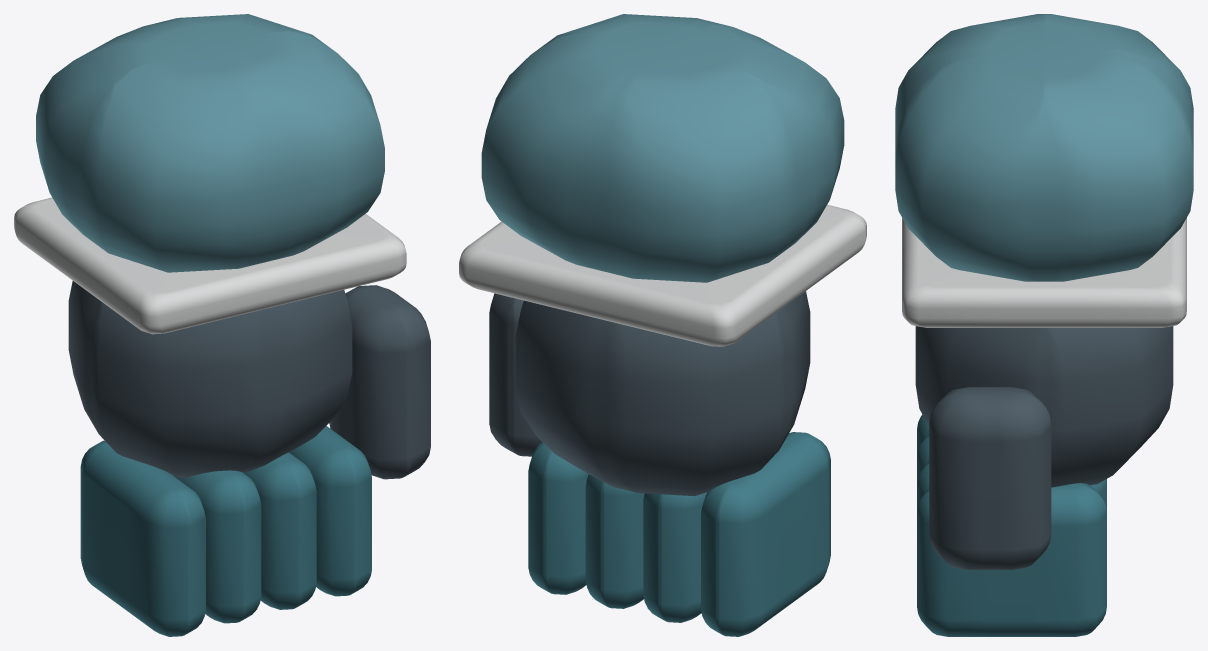
Rendered from skater_glove.glb.
3 renders of one model, left to right at view 1: azimuth 30°, elevation 25°; view 2: azimuth 150°, elevation 25°; view 3: azimuth 270°, elevation 25°, orthographic. The views are drawn at different scales.
Visible parts, largest first — view 1: skater_glove2; view 2: skater_glove2; view 3: skater_glove2.
Boxes of the visible parts, x1,y1,x2,y2 form: skater_glove2: (14,14,430,636); skater_glove2: (459,14,866,636); skater_glove2: (895,14,1193,636).
Size of the model in its own units: 0.137 by 0.22 by 0.11.
